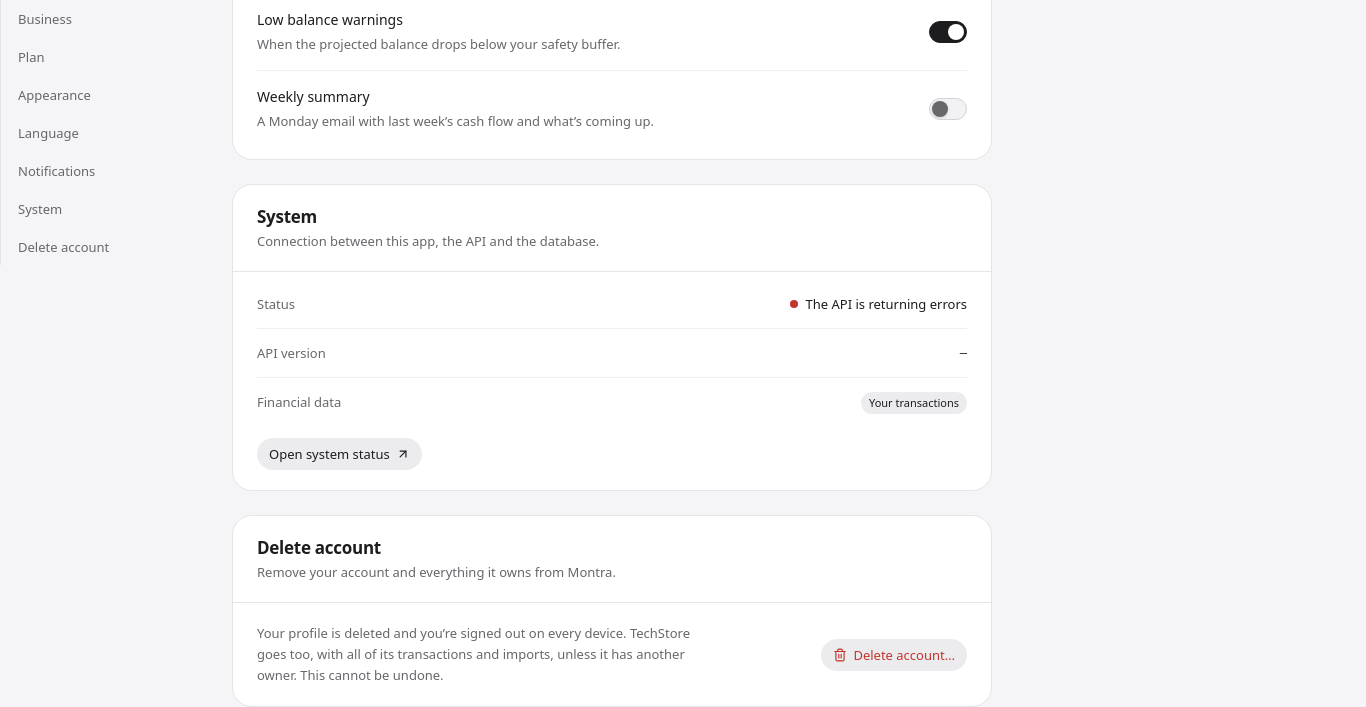
Test case: deleting the account › deletes the account, then signs out to sign-in with a confirmation
(page scrolled)
Click the button "Delete account…" at (894, 655), box 821,639 -> 967,671
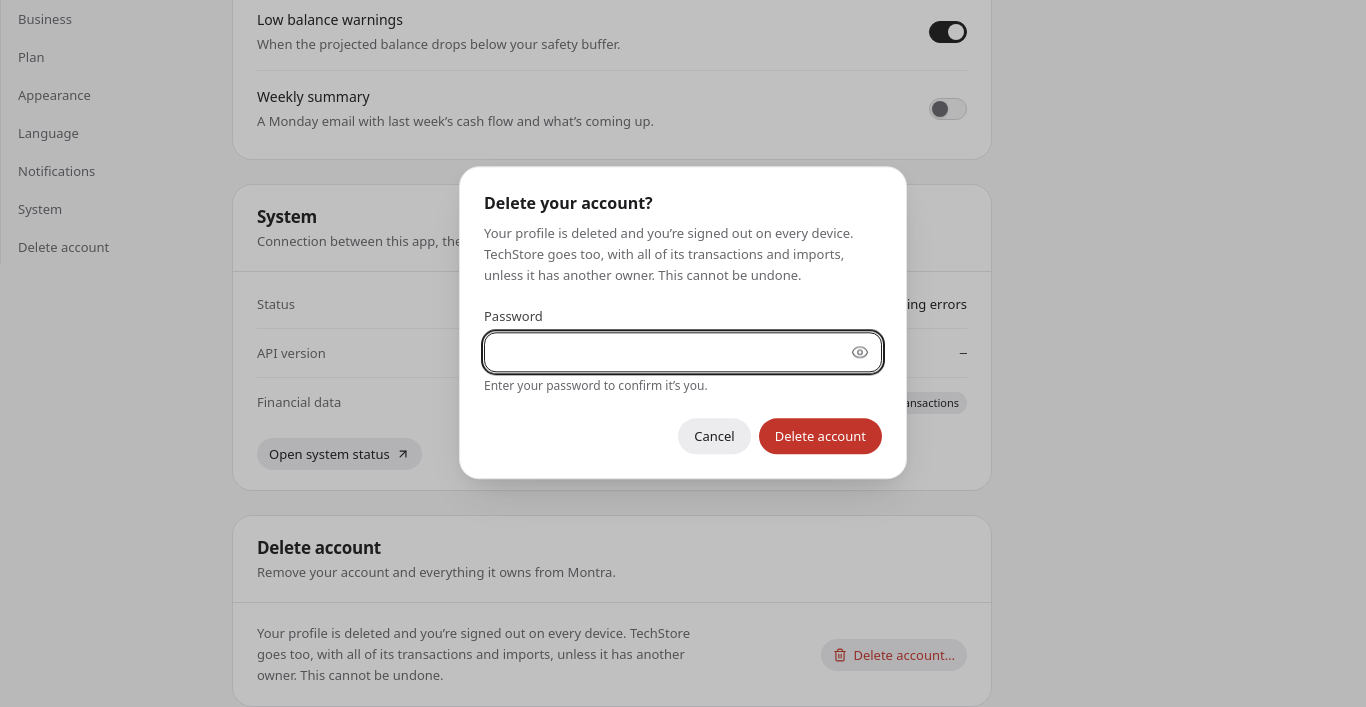
Type "correct horse battery" into the password field labelled "Password" at (683, 353), box 484,333 -> 882,373
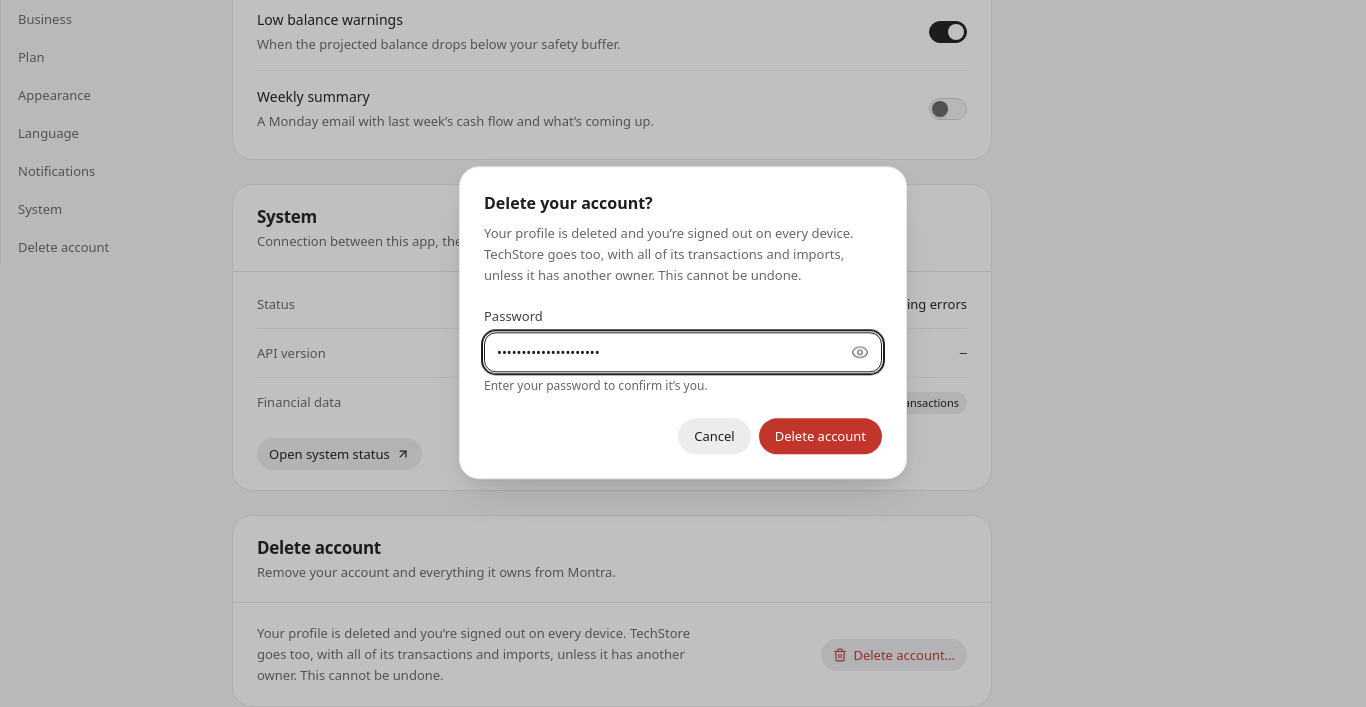
Click the button "Delete account" at (820, 437), box 759,419 -> 882,455
(page scrolled)
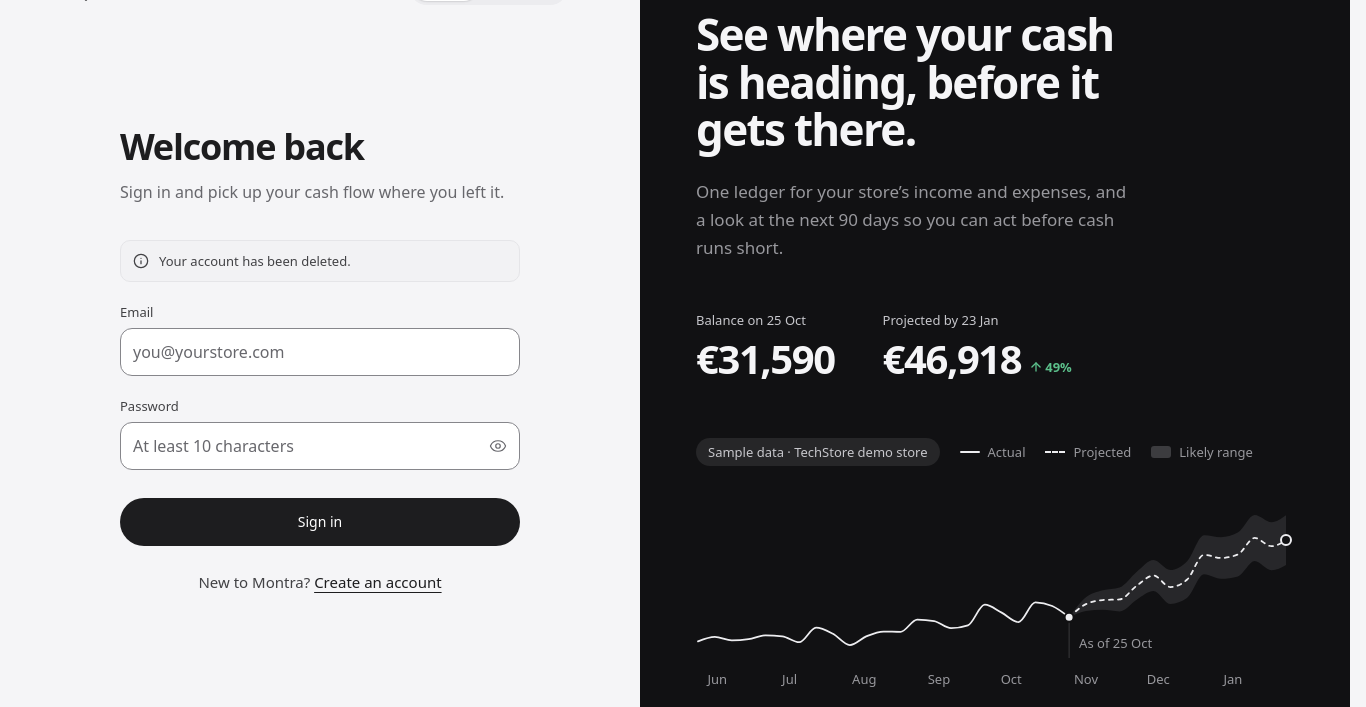
Expected: the text "Your account has been deleted." is shown, 159,251 -> 351,271
